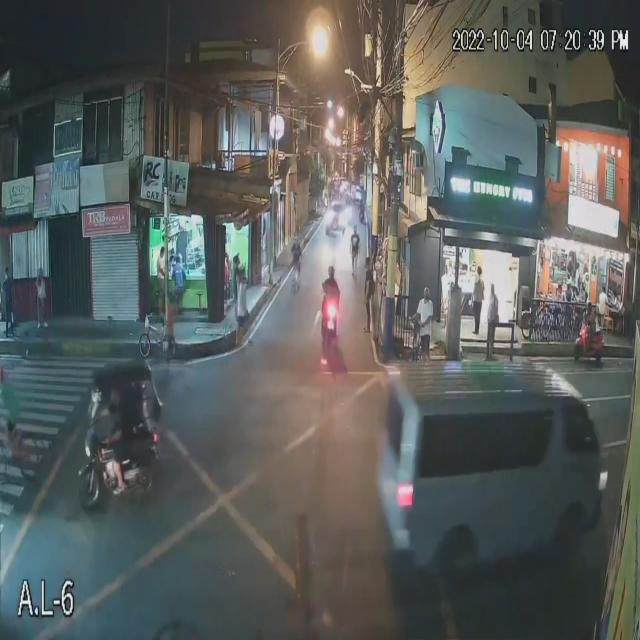Full-Faced: (326, 258, 337, 282)
